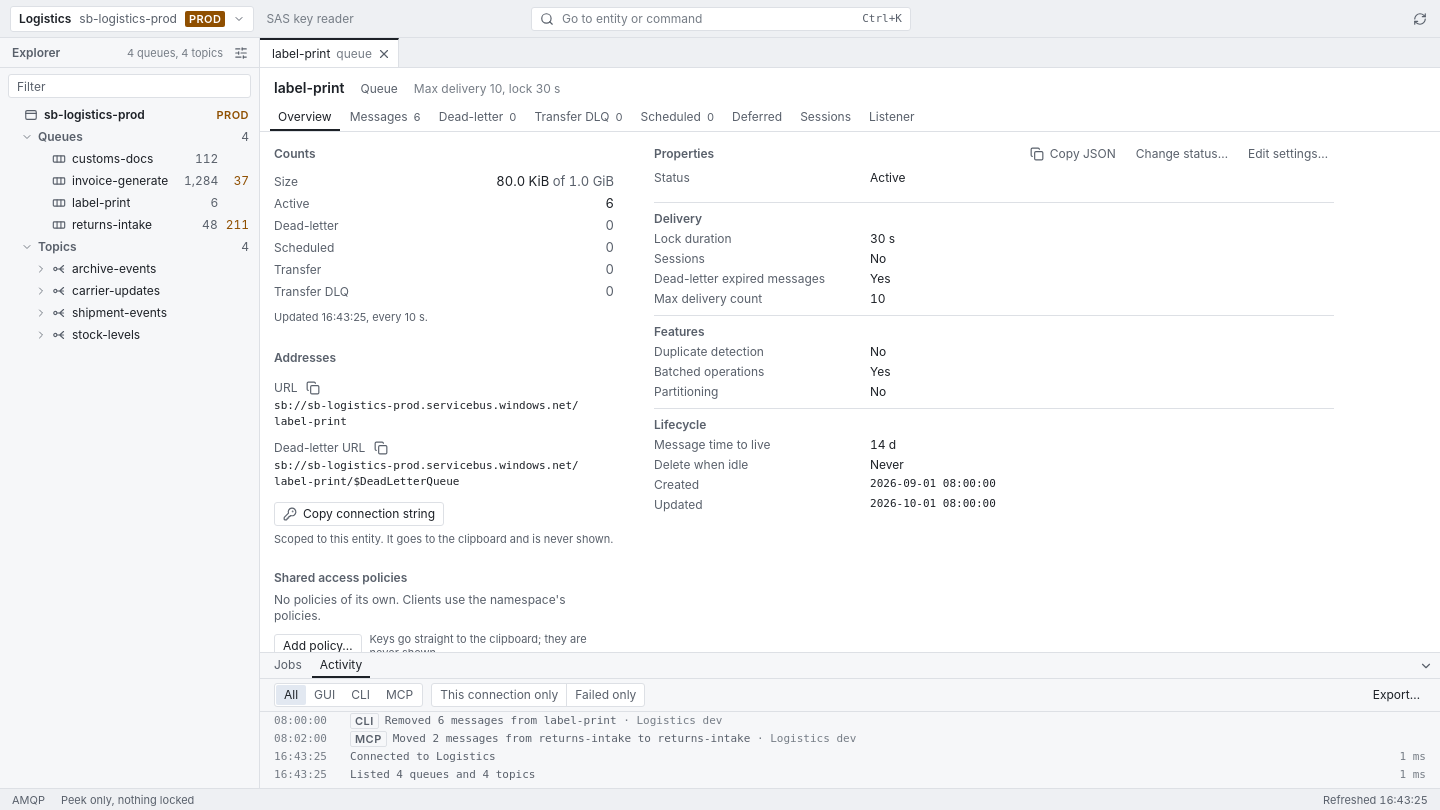
Test case: entity tabs › close with the close button and fall back to the empty workspace
Check: the tab "label-print queue" is shown, box x1=260 y1=40 x2=376 y2=67
Click the button named "Close label-print": (384, 54) x1=376 y1=46 x2=392 y2=62
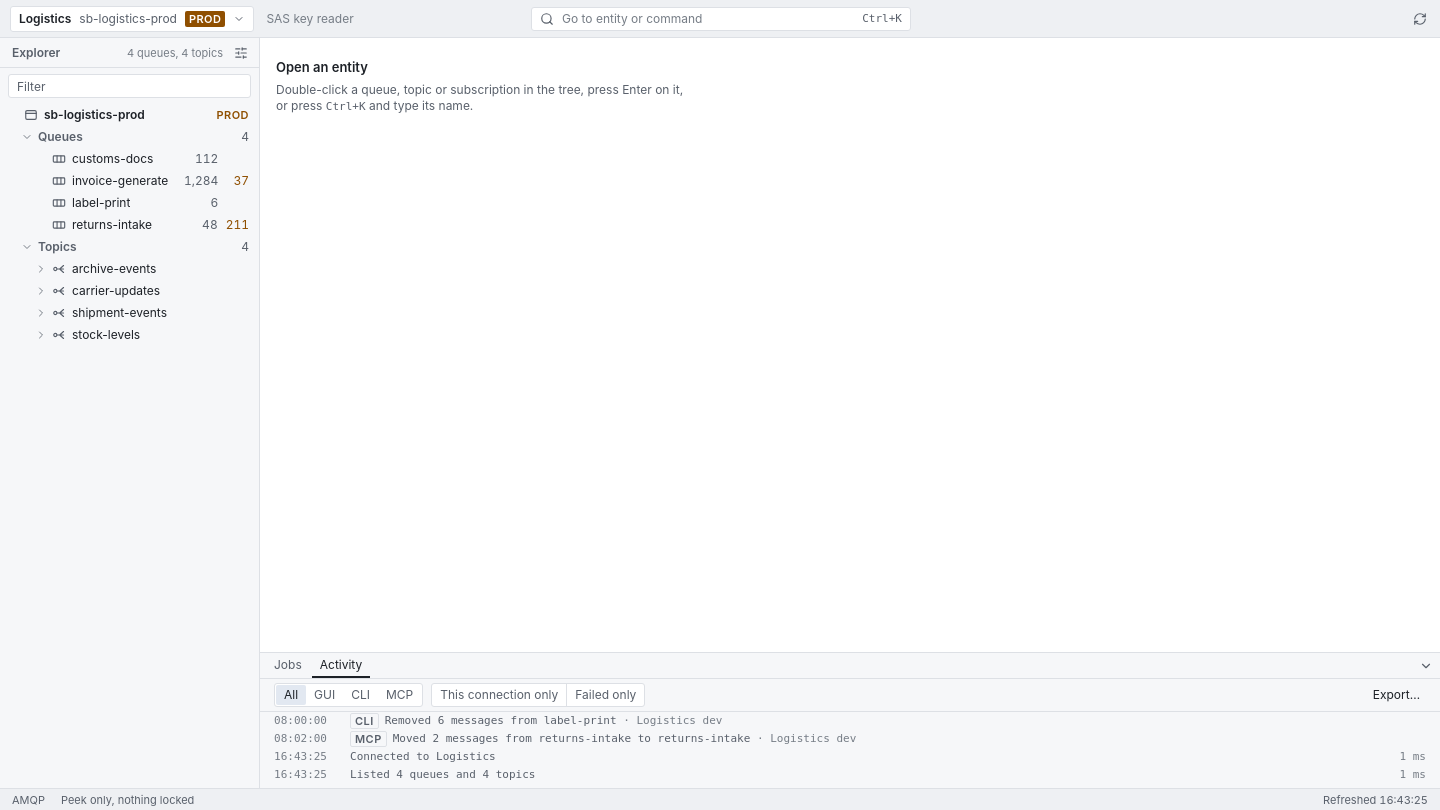
Check: the heading "Open an entity" is shown, box x1=276 y1=59 x2=368 y2=75
